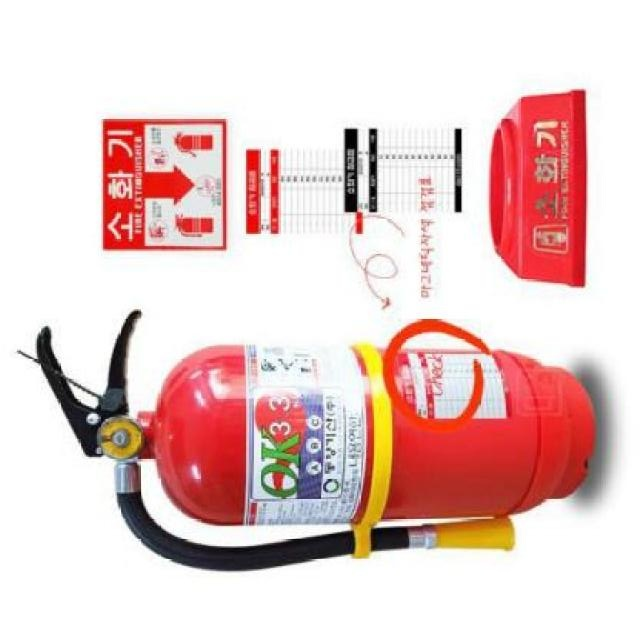fire extinguisher: (34, 310, 597, 572)
